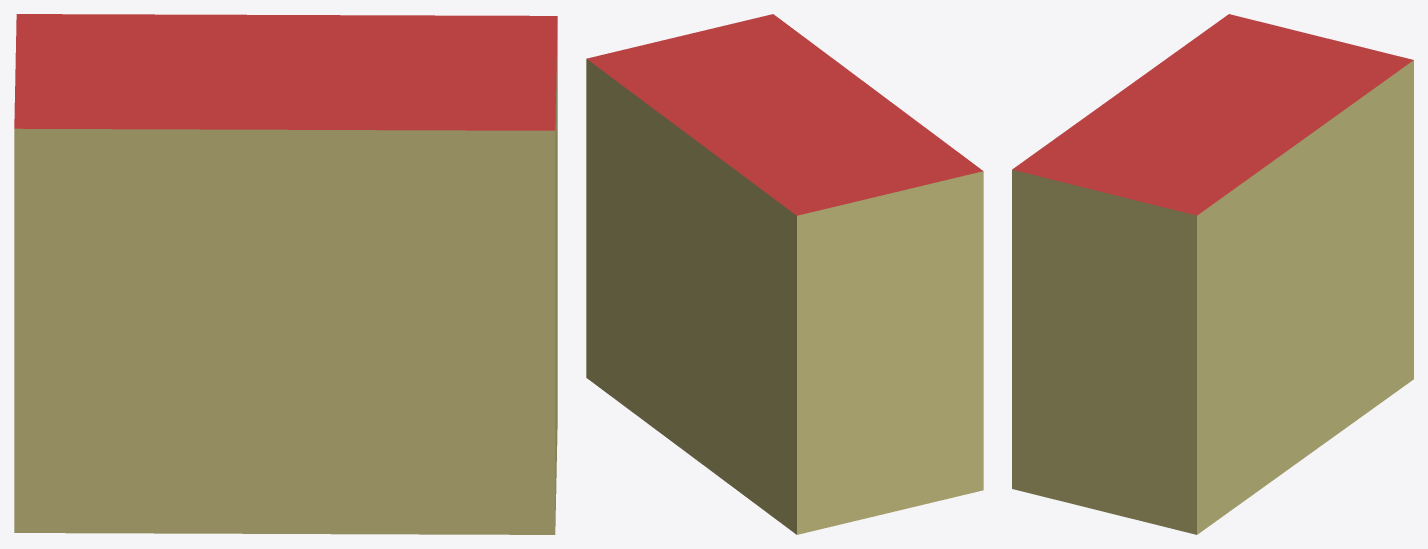
3 views of the same model, side by side, from view 1: azimuth 30°, elevation 25°; view 2: azimuth 150°, elevation 25°; view 3: azimuth 270°, elevation 25° (orthographic). The views are drawn at different scales.
Visible parts, largest first — view 1: group_4, group_3; view 2: group_4, group_3; view 3: group_4, group_3.
Part boxes in pixels (x1,y1,x2,y2): group_4: (14,25,557,534); group_3: (14,14,557,130); group_4: (586,59,983,534); group_3: (587,14,983,215); group_4: (1012,60,1413,534); group_3: (1012,14,1413,215).
Bounding box in the file's own units: 7.37 × 6.21 × 5.44.
